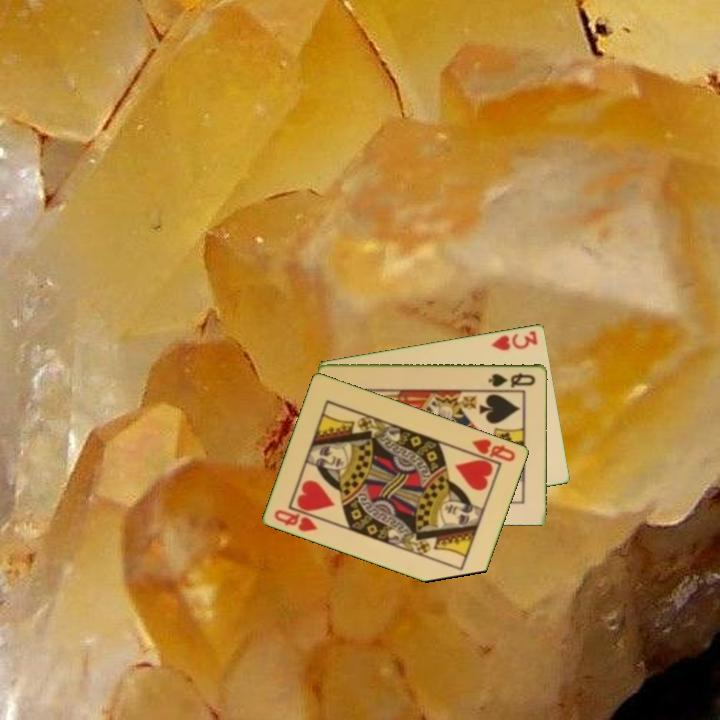3h: (488, 327, 541, 353)
Qh: (271, 504, 321, 535), (468, 435, 518, 465)
Qs: (485, 369, 538, 389)
